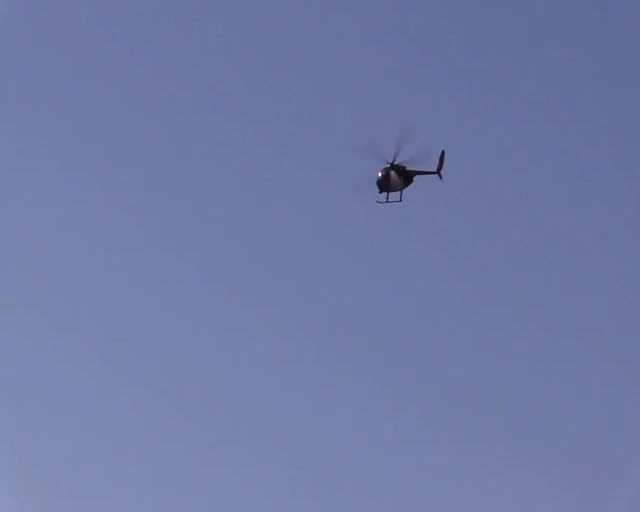HELICOPTER: (358, 126, 446, 204)
